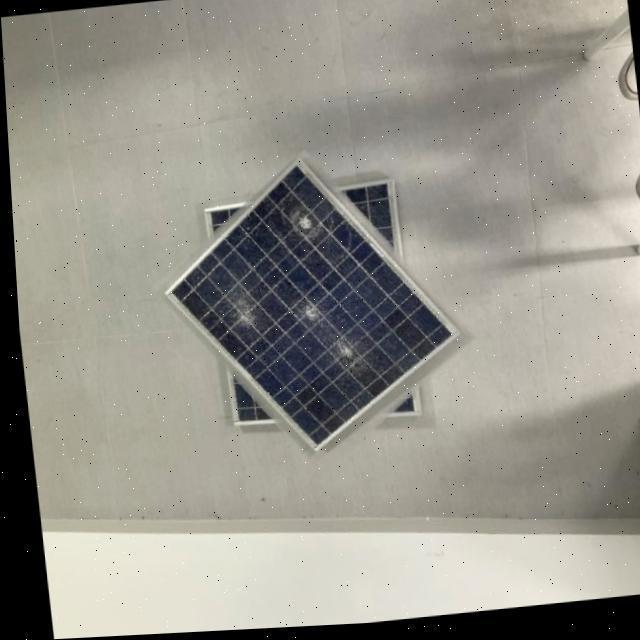Anomaly Solar Panel: (158, 166, 453, 451)
Structural Damage: (267, 281, 377, 392), (202, 281, 283, 354), (268, 195, 335, 258)
